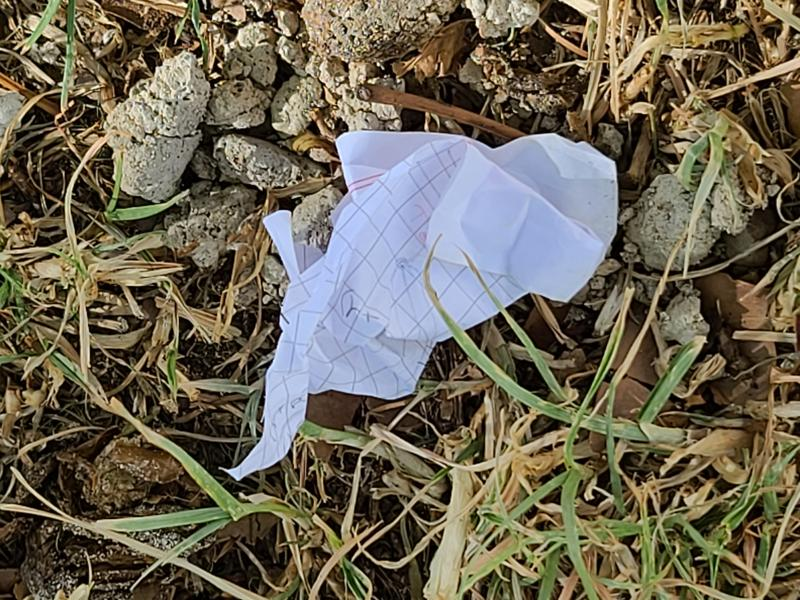papel: (229, 131, 620, 480)
